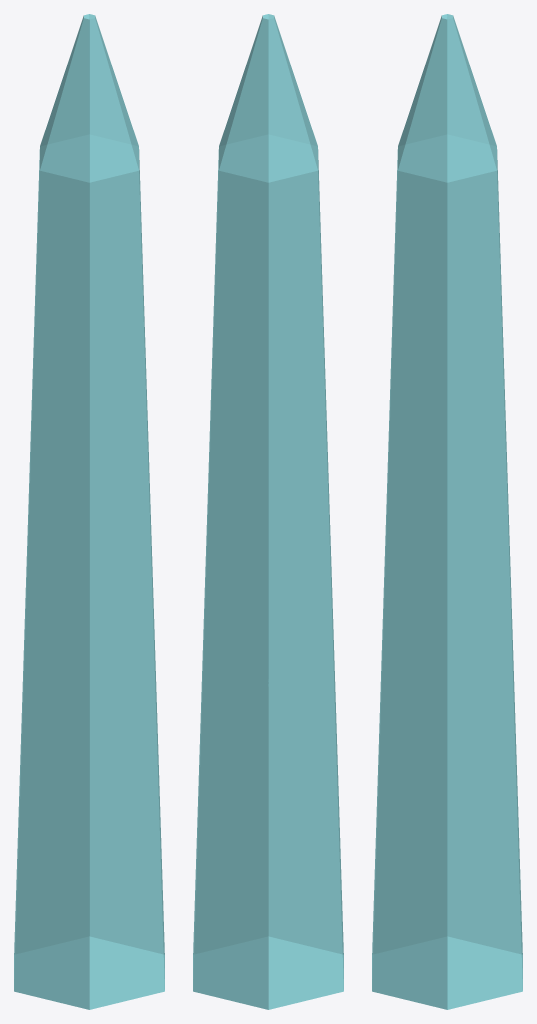
Rendered from Crystal.FBX.
The picture shows the model from 3 angles, left to right: view 1: azimuth 30°, elevation 25°; view 2: azimuth 150°, elevation 25°; view 3: azimuth 270°, elevation 25°; orthographic projection.
Parts seen in each view (by area): view 1: Cone001; view 2: Cone001; view 3: Cone001.
Part boxes in pixels (x1,y1,x2,y2): Cone001: [14, 14, 164, 1009]; Cone001: [193, 14, 343, 1009]; Cone001: [372, 14, 522, 1009].
Bounding box in the file's own units: 26.47 × 160 × 22.93.
